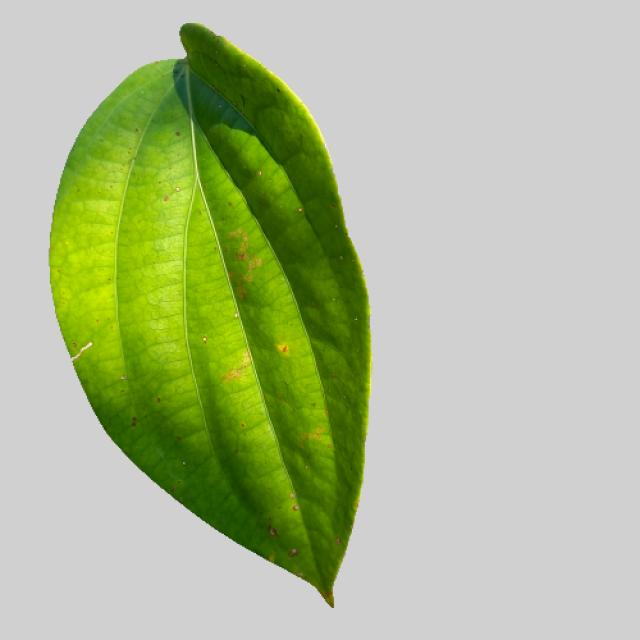healthy: (47, 21, 380, 615)
